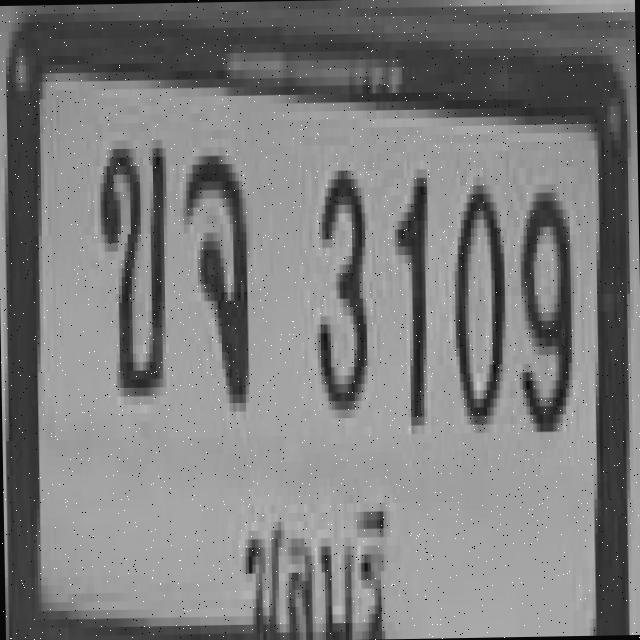0: (449, 176, 503, 416)
1: (390, 165, 427, 412)
11KhorKhai: (96, 131, 166, 388)
17ChorChan: (180, 147, 247, 396)
3: (310, 162, 364, 410)
9: (515, 183, 569, 423)
Chonburi: (233, 472, 404, 640)
